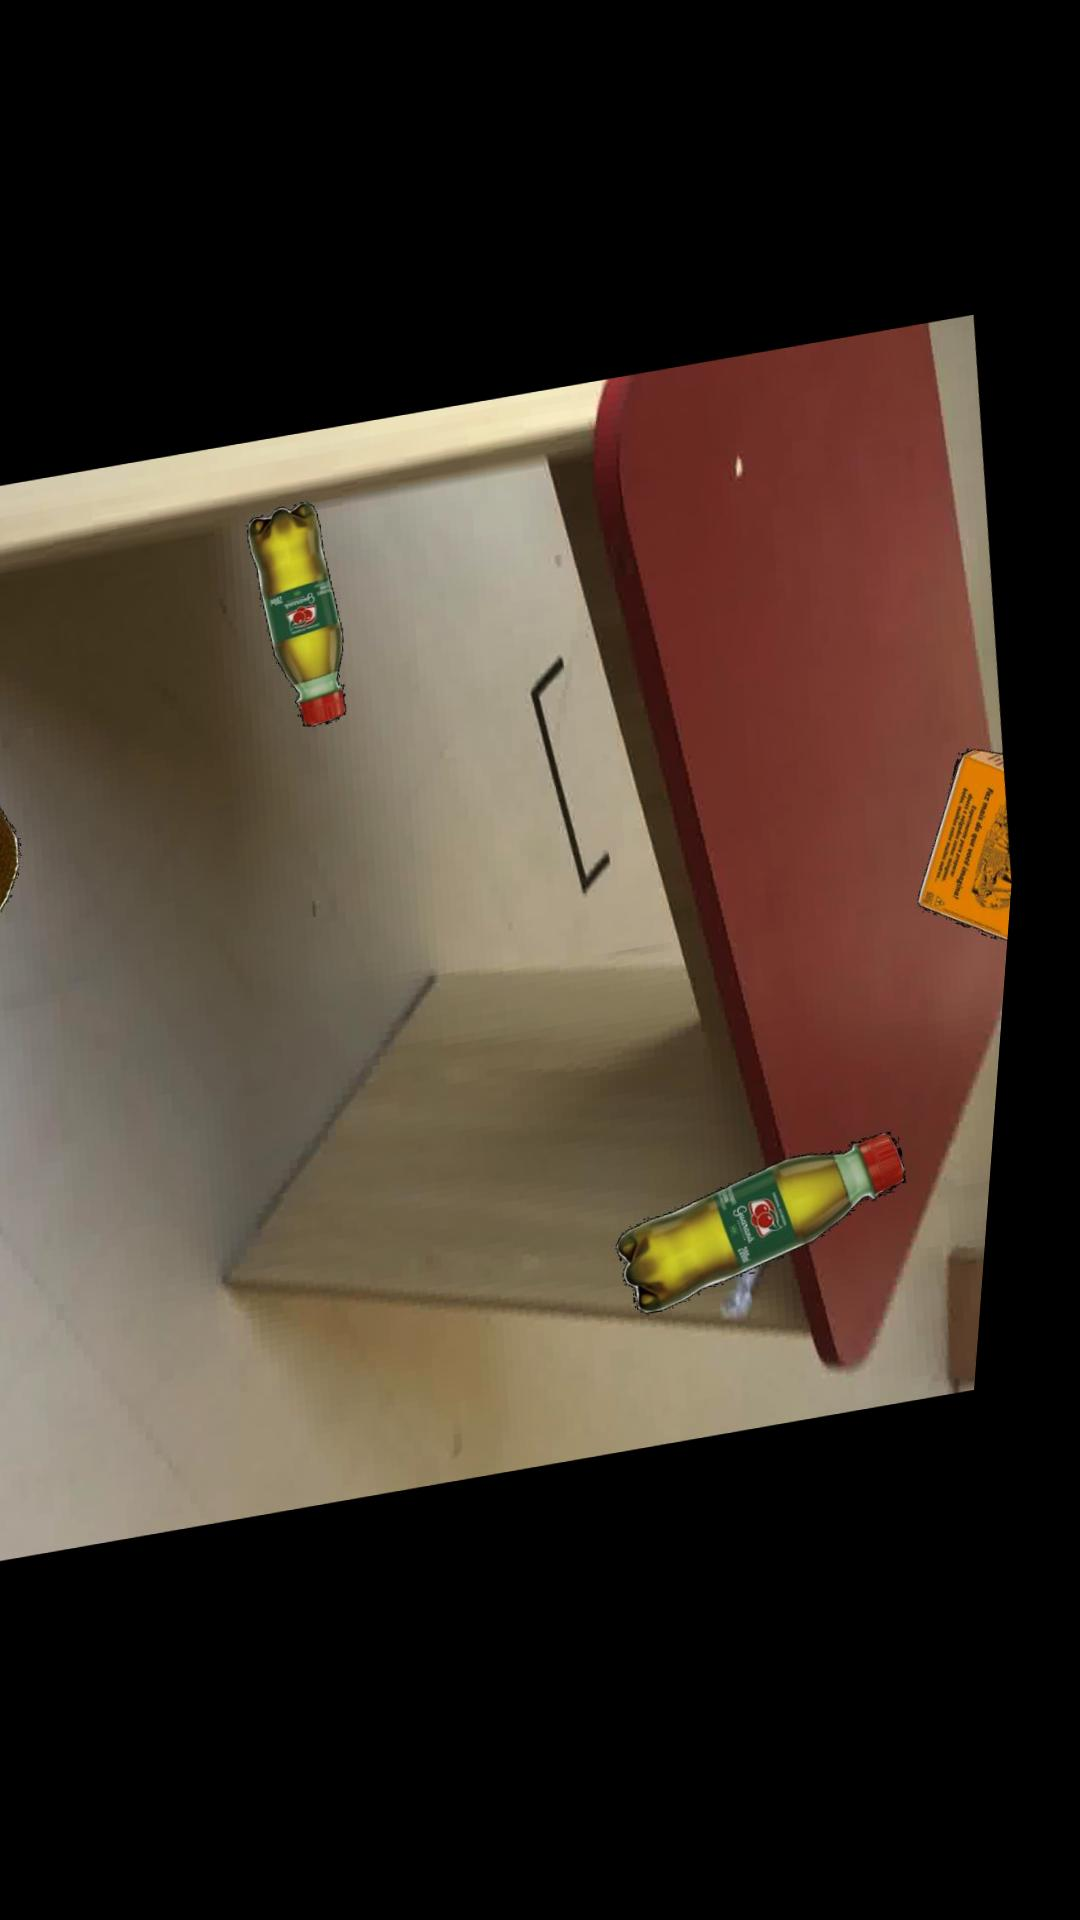guarana: (637, 1139, 927, 1320), (257, 504, 359, 729)
kiwi: (0, 793, 34, 934)
